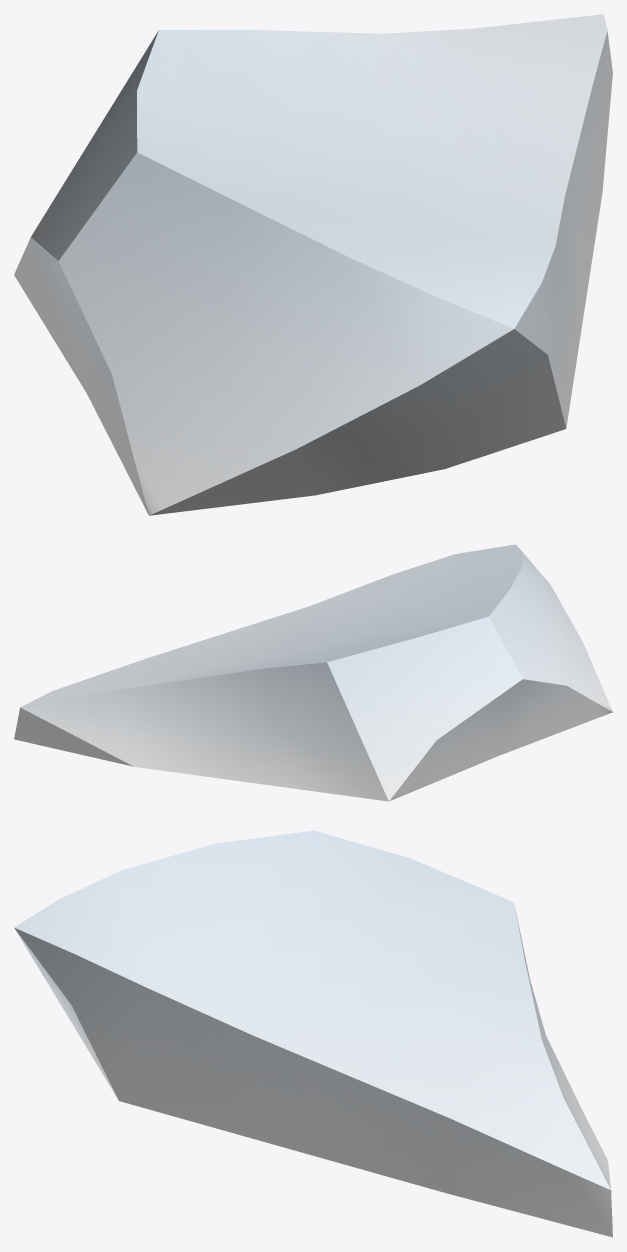
Rendered from Mountain_Stone_White_005.FBX.
3 renders of one model, top to bottom at view 1: azimuth 30°, elevation 25°; view 2: azimuth 150°, elevation 25°; view 3: azimuth 270°, elevation 25°, orthographic. The views are drawn at different scales.
Visible parts, largest first — view 1: Mountain_Stone_White_005; view 2: Mountain_Stone_White_005; view 3: Mountain_Stone_White_005.
Part boxes in pixels (bbox=[...]): Mountain_Stone_White_005: bbox=[14, 14, 612, 515]; Mountain_Stone_White_005: bbox=[14, 544, 612, 801]; Mountain_Stone_White_005: bbox=[14, 830, 612, 1237].
Bounding box in the file's own units: 461 × 135 × 427.
1 material, 1 textured.
